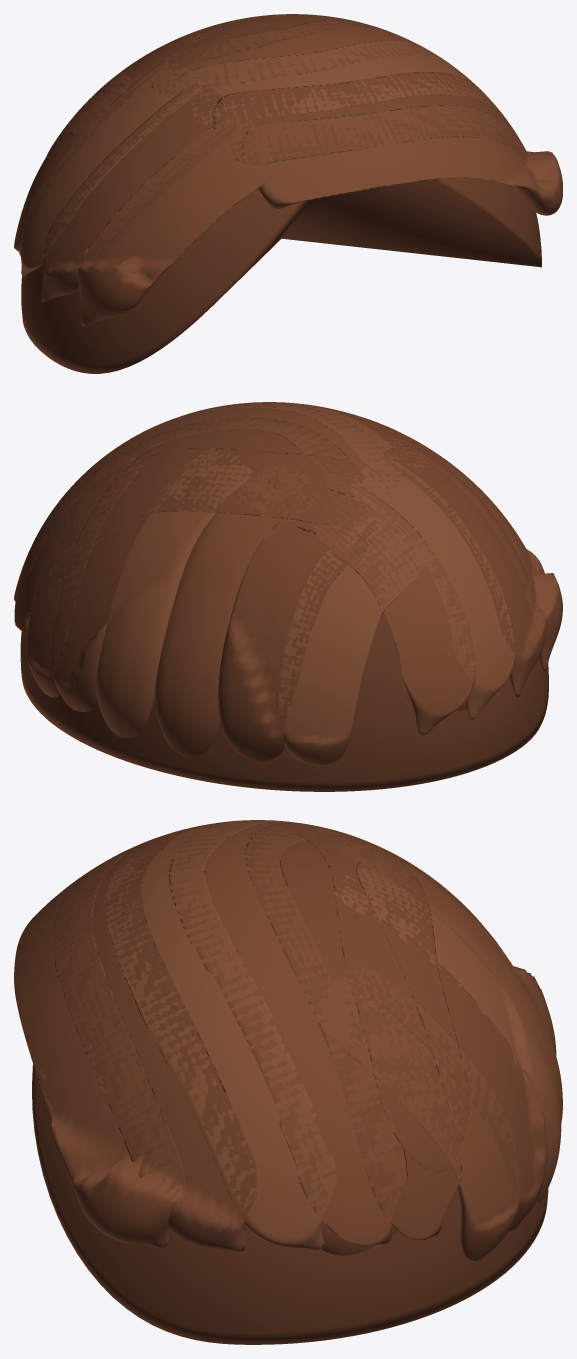
The model's file is Masculine-sidepart-cap258-hair.glb.
3 renders of one model, top to bottom at view 1: azimuth 30°, elevation 25°; view 2: azimuth 150°, elevation 25°; view 3: azimuth 270°, elevation 25°, orthographic. The views are drawn at different scales.
Parts seen in each view (by area): view 1: 226 hair / Hair258 / sculpted side sweep 1, 226 hair / Hair258 / recessed roots, 226 hair / Hair258 / sculpted side sweep 0, 226 hair / Hair258 / sculpted side sweep 2; view 2: 226 hair / Hair258 / sculpted side sweep 0, 226 hair / Hair258 / sculpted side sweep 1, 226 hair / Hair258 / sculpted side sweep 2, 226 hair / Hair258 / recessed roots; view 3: 226 hair / Hair258 / sculpted side sweep 1, 226 hair / Hair258 / sculpted side sweep 0, 226 hair / Hair258 / sculpted side sweep 2, 226 hair / Hair258 / recessed roots.
Boxes of the visible parts, x1=… form: 226 hair / Hair258 / sculpted side sweep 1: x1=14, y1=20, x2=562, y2=325; 226 hair / Hair258 / recessed roots: x1=21, y1=178, x2=541, y2=373; 226 hair / Hair258 / sculpted side sweep 0: x1=41, y1=14, x2=533, y2=301; 226 hair / Hair258 / sculpted side sweep 2: x1=20, y1=14, x2=502, y2=276; 226 hair / Hair258 / sculpted side sweep 0: x1=14, y1=402, x2=546, y2=761; 226 hair / Hair258 / sculpted side sweep 1: x1=14, y1=403, x2=562, y2=756; 226 hair / Hair258 / sculpted side sweep 2: x1=32, y1=402, x2=515, y2=765; 226 hair / Hair258 / recessed roots: x1=20, y1=613, x2=548, y2=791; 226 hair / Hair258 / sculpted side sweep 1: x1=14, y1=820, x2=562, y2=1260; 226 hair / Hair258 / sculpted side sweep 0: x1=52, y1=820, x2=556, y2=1255; 226 hair / Hair258 / sculpted side sweep 2: x1=104, y1=820, x2=561, y2=1249; 226 hair / Hair258 / recessed roots: x1=32, y1=1064, x2=548, y2=1344.
Size of the model in its own units: 0.972 by 0.5085 by 0.7432.
